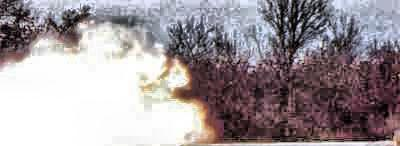tanks: (195, 132, 400, 146)
